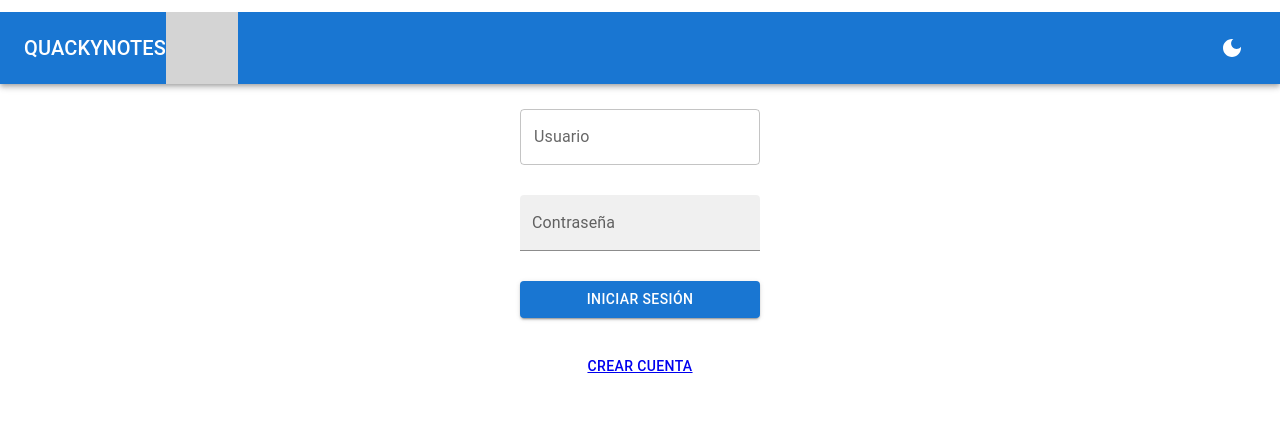
Test: Login component › should display an error message for incorrect password
Type "example@example.com" into the field labelled "Usuario" at coordinates (640, 137), box [520,109,760,165]
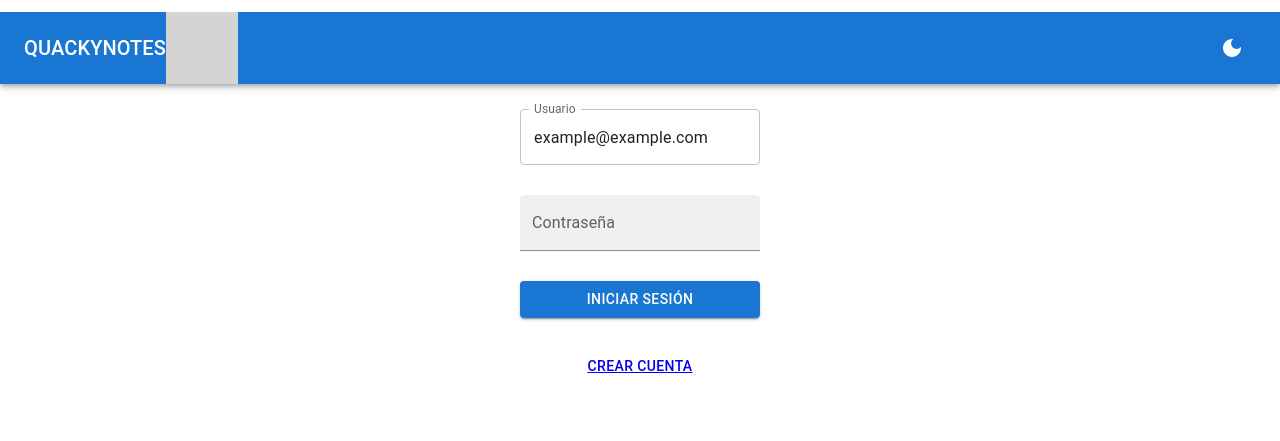
Type "password" into the password field labelled "Contraseña" at coordinates (640, 223), box [520,195,760,251]
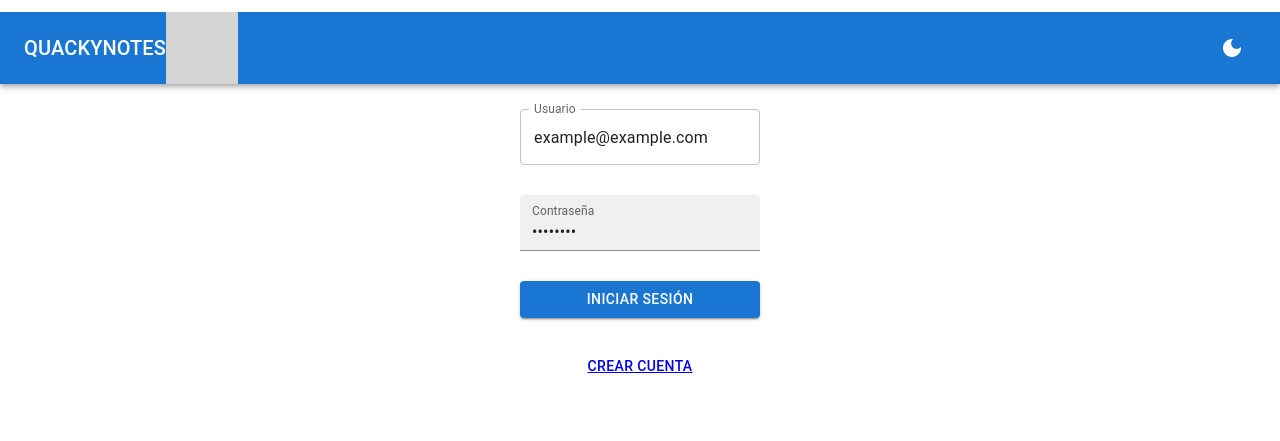
Click the button "Iniciar sesión" at coordinates (640, 299), box [520,281,760,318]
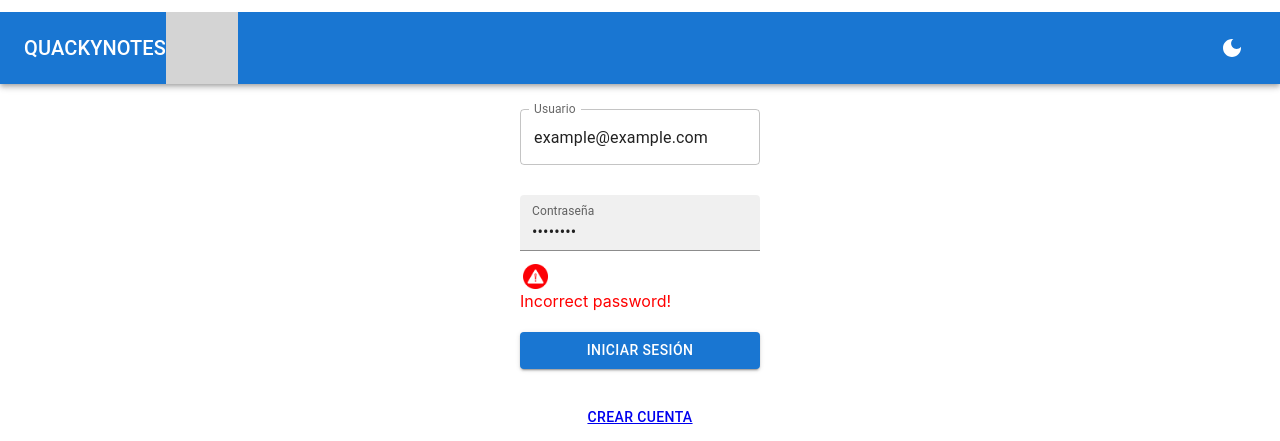
Check: the text "Incorrect password!" is shown, box [520,291,671,311]
